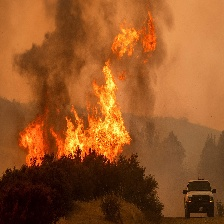fire: (11, 69, 132, 165), (110, 18, 160, 61)
smoke: (10, 1, 156, 117)
